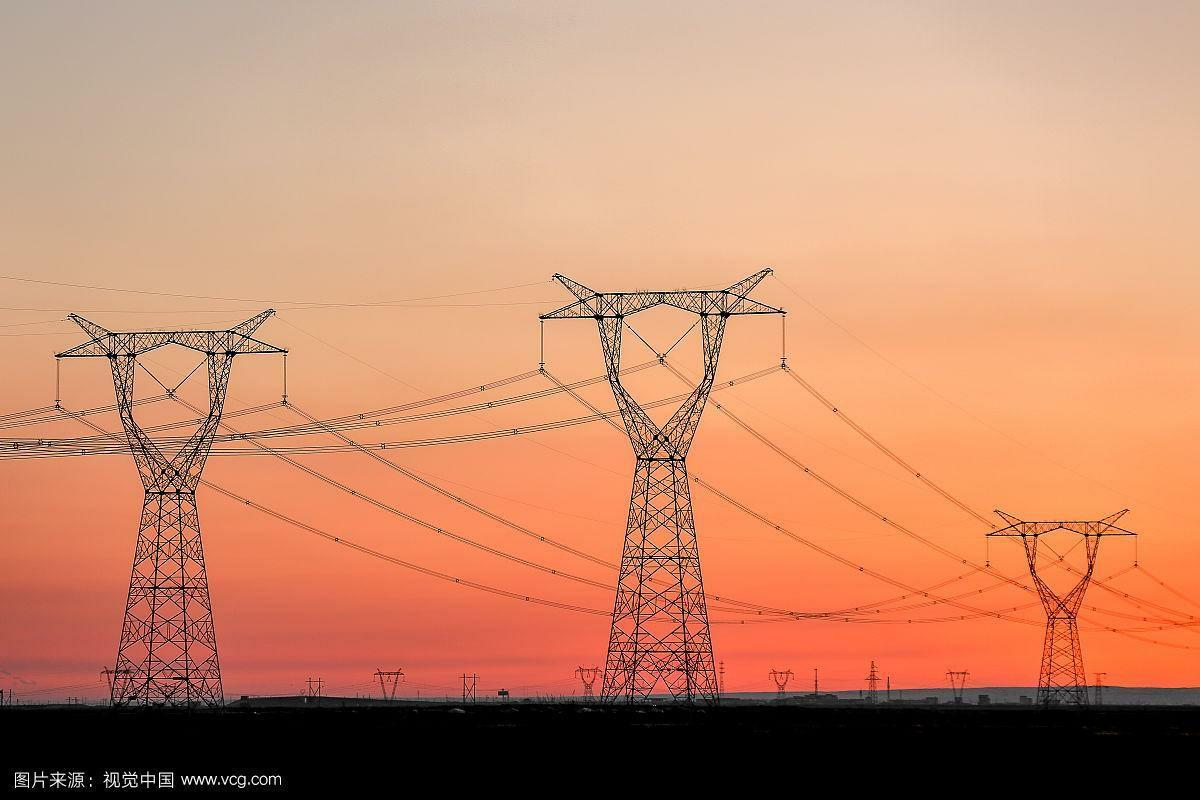power_tower: (533, 253, 808, 723), (51, 300, 294, 701), (981, 489, 1164, 749), (759, 666, 804, 701), (941, 668, 974, 713), (457, 668, 497, 700), (859, 660, 884, 710), (373, 664, 407, 700)
